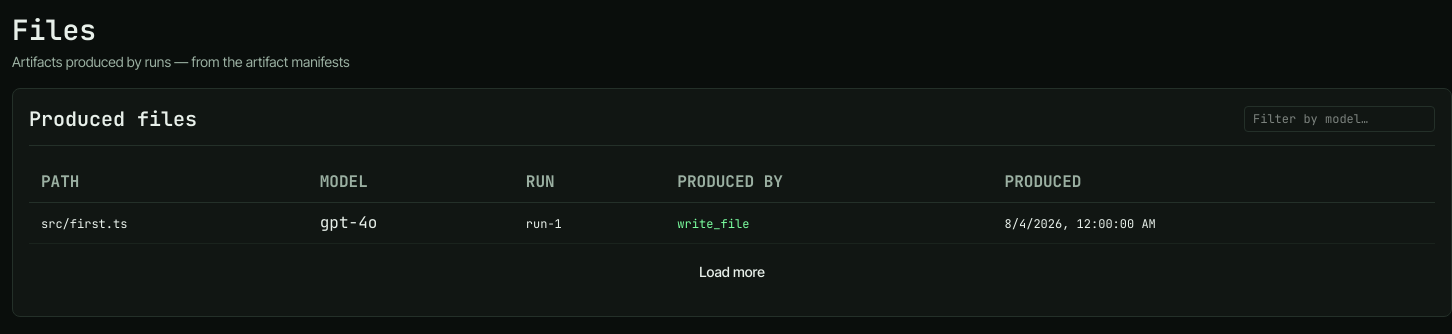
Test: Files › appends the next page instead of replacing files when Load more is clicked
Expected: the text "src/first.ts" is shown, x1=41 y1=216 x2=127 y2=232
Click the button "Load more" at (732, 272), box x1=687 y1=256 x2=777 y2=288
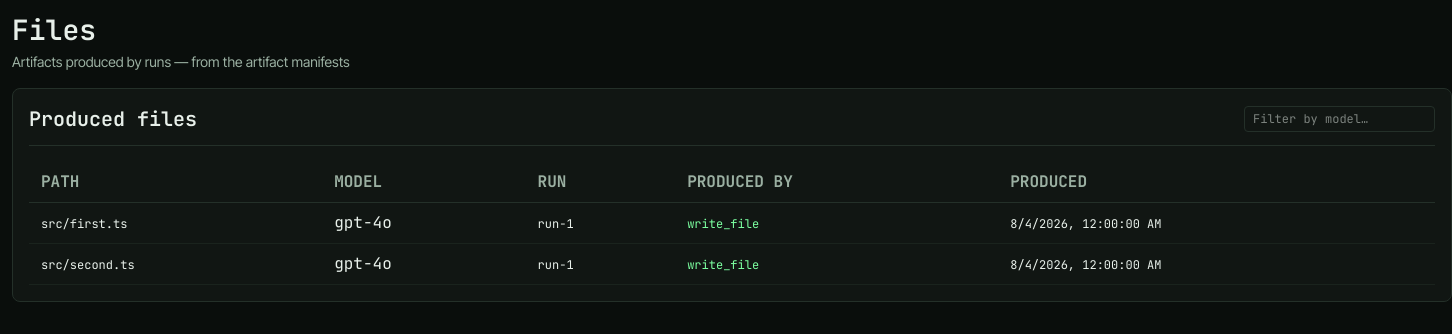
Expected: the text "src/first.ts" is shown, x1=41 y1=216 x2=127 y2=232
Expected: the text "src/second.ts" is shown, x1=41 y1=257 x2=135 y2=273
